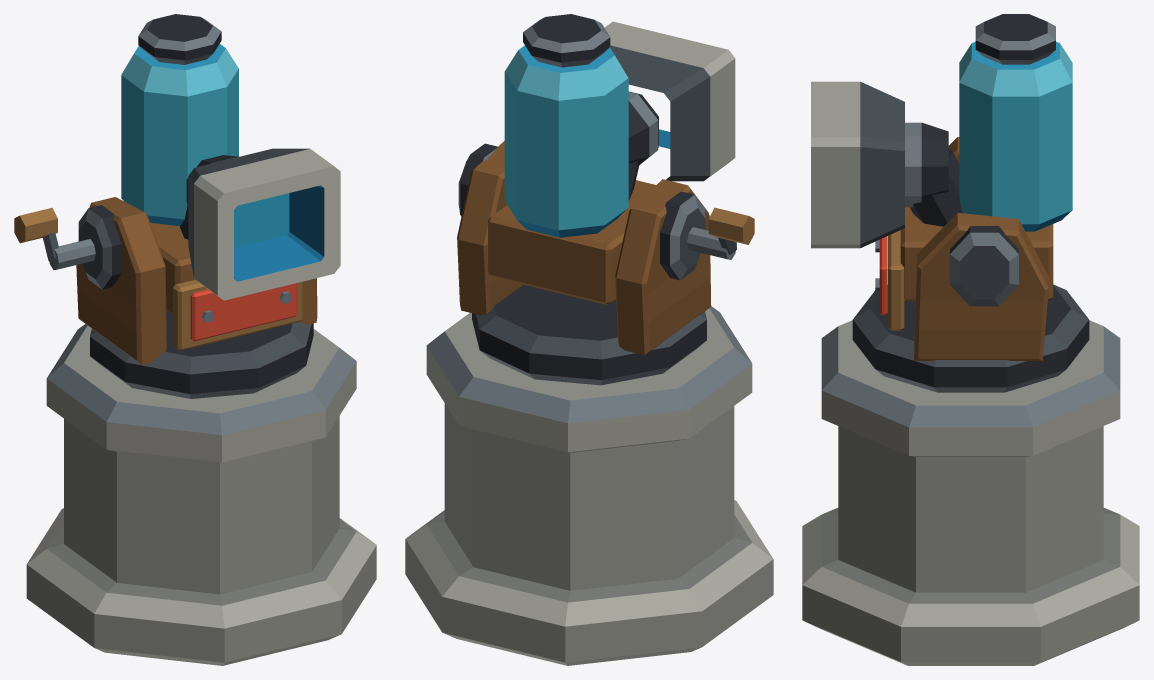
File: lv1_givre.glb
3 renders of one model, left to right at view 1: azimuth 30°, elevation 25°; view 2: azimuth 150°, elevation 25°; view 3: azimuth 270°, elevation 25°, orthographic. The views are drawn at different scales.
Parts seen in each view (by area): view 1: Base, Barrel_Recoil, Turret_Yaw, Team_Panels; view 2: Base, Barrel_Recoil, Turret_Yaw; view 3: Base, Barrel_Recoil, Turret_Yaw, Team_Panels.
Part boxes in pixels (x1,y1,x2,y2): Base: (26,324,376,665); Barrel_Recoil: (121,14,340,350); Turret_Yaw: (14,197,317,398); Team_Panels: (190,283,297,341); Base: (405,306,773,665); Barrel_Recoil: (488,14,735,304); Turret_Yaw: (457,141,754,385); Base: (802,320,1139,665); Barrel_Recoil: (811,14,1072,330); Turret_Yaw: (852,137,1089,392); Team_Panels: (879,236,887,315).
Size of the model in its own units: 1.28 by 2.2 by 1.17.
